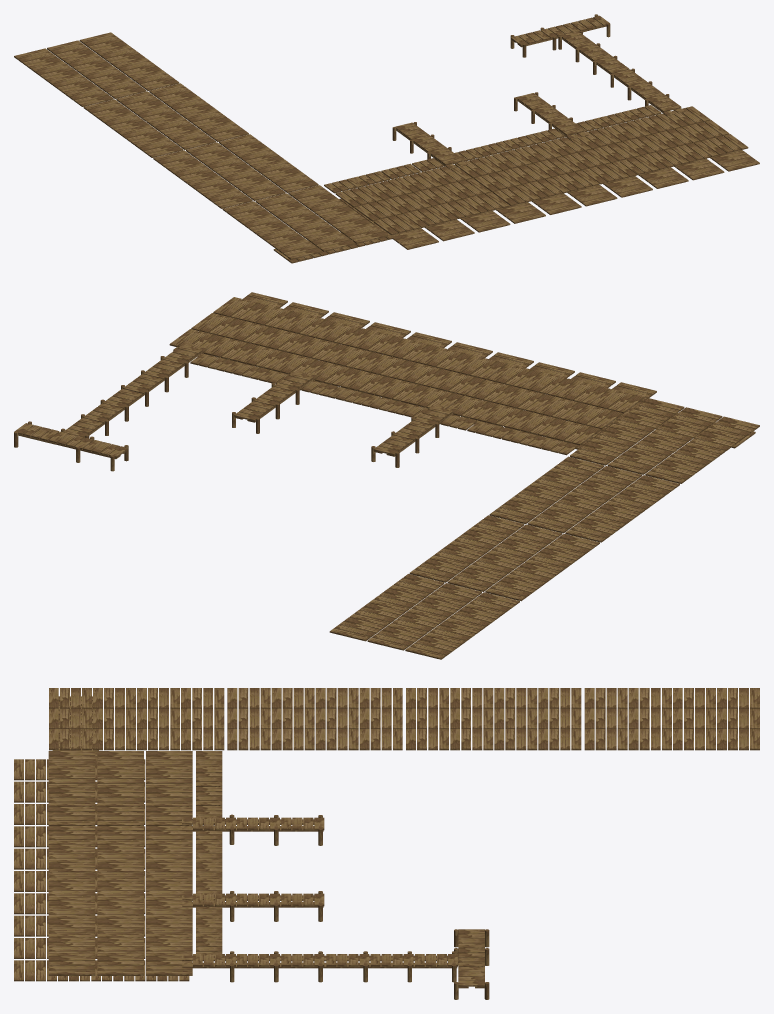
Rendered from 漁走道.fbx.
The picture shows the model from 3 angles, top to bottom: view 1: azimuth 30°, elevation 25°; view 2: azimuth 150°, elevation 25°; view 3: azimuth 270°, elevation 25°; orthographic projection. The views are drawn at different scales.
Visible parts, largest first — view 1: Object064; view 2: Object064; view 3: Object064.
Boxes of the visible parts, bbox=[...] form: Object064: bbox=[14, 14, 759, 263]; Object064: bbox=[14, 292, 759, 659]; Object064: bbox=[14, 688, 759, 999].
Bounding box in the file's own units: 267 × 6.74 × 281.
